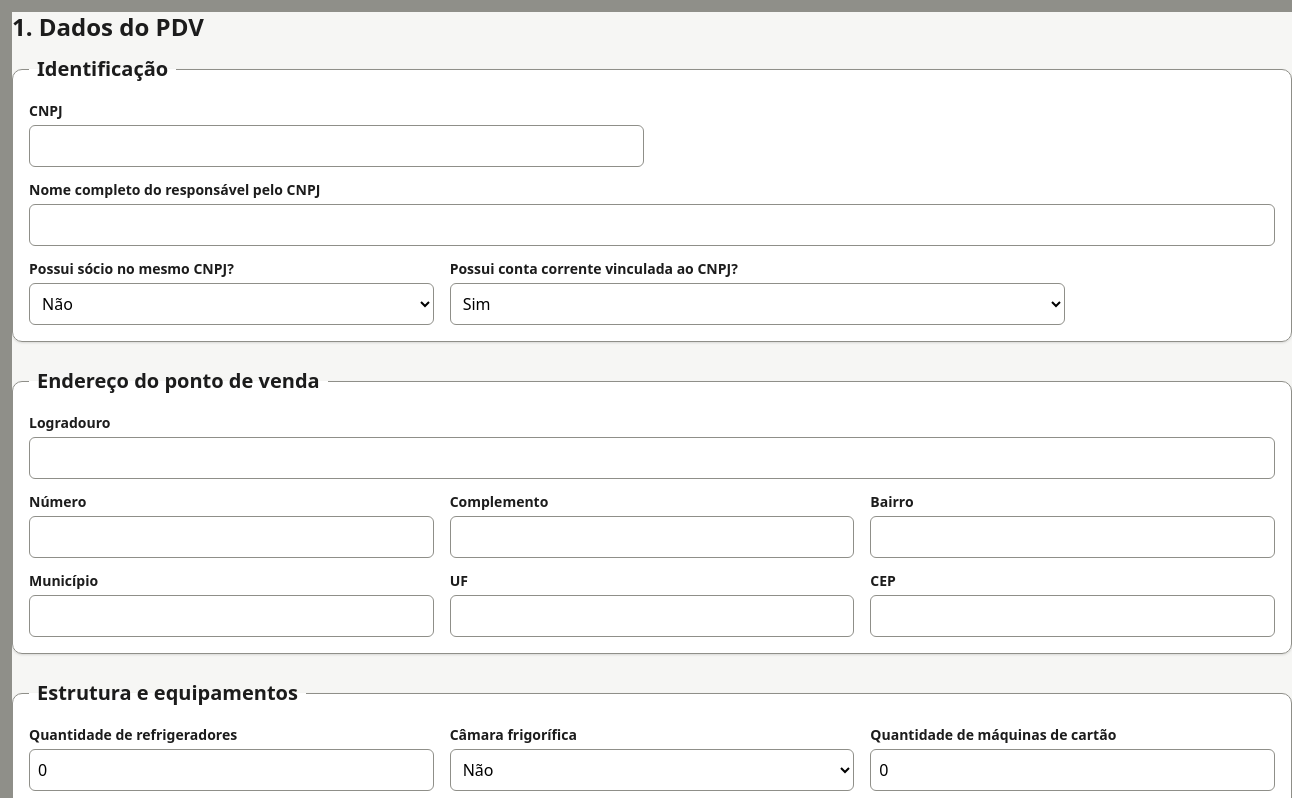
Test: EtapaDados › CNPJ válido consulta a Receita, mostra o card e preenche o endereço
This screenshot has width=1292, height=798.
Type "11222333000181" into the field labelled "CNPJ" at (336, 146), box [29,125,644,167]
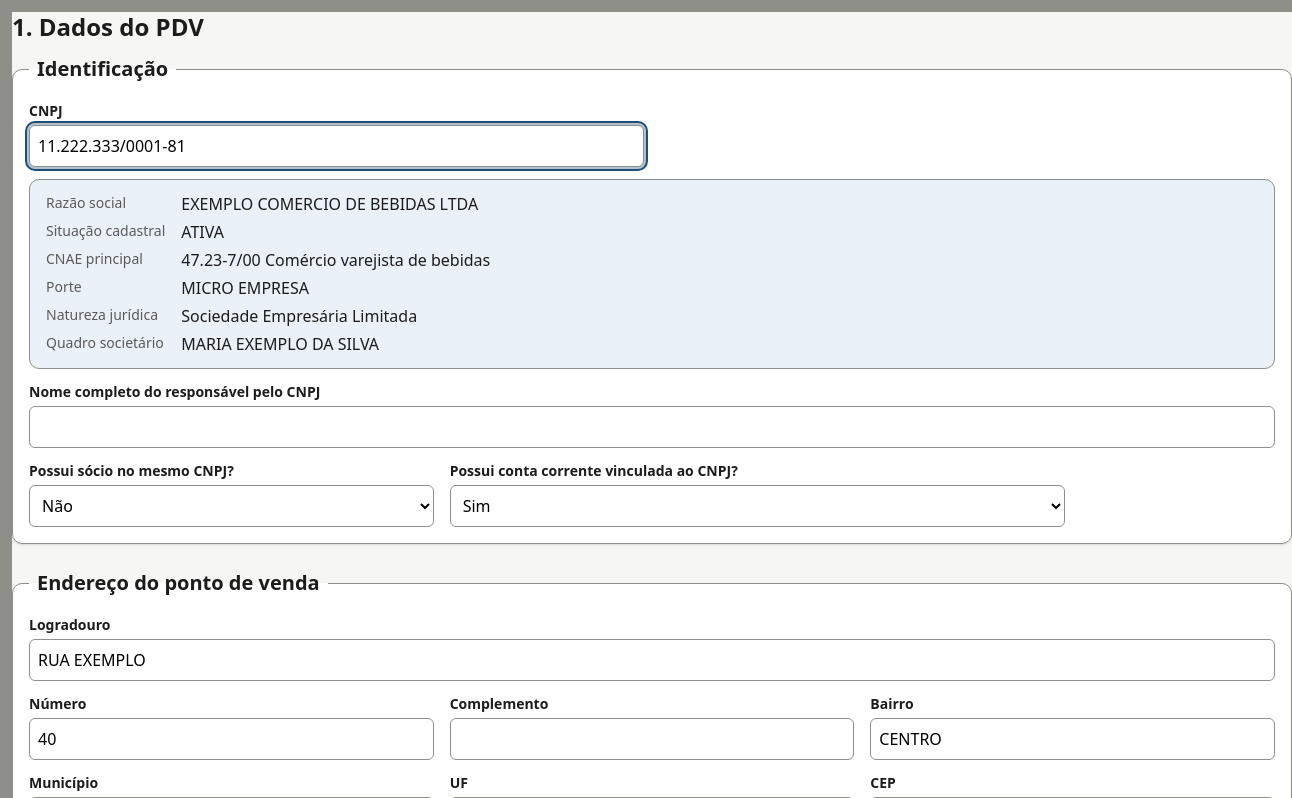
Result: the text "EXEMPLO COMERCIO DE BEBIDAS LTDA" is shown at [181,193,478,215]
Result: the field labelled "CNPJ" holds "11.222.333/0001-81" at [29,125,644,167]
Result: the field labelled "Logradouro" holds "RUA EXEMPLO" at [29,639,1275,681]
